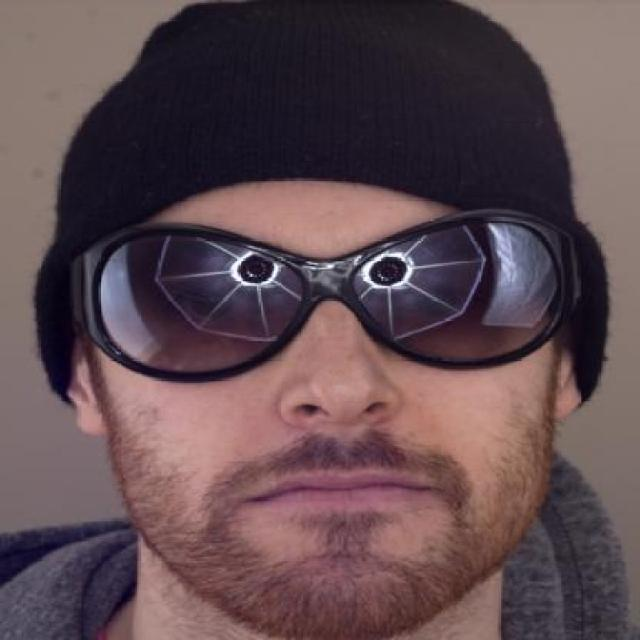face_nomask: (132, 214, 494, 552)
glasses: (38, 215, 590, 396)
